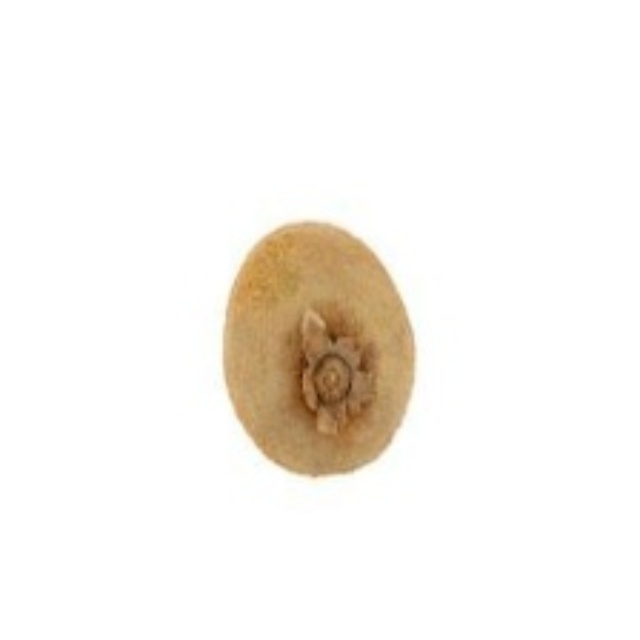kiwi: (222, 217, 422, 476)
